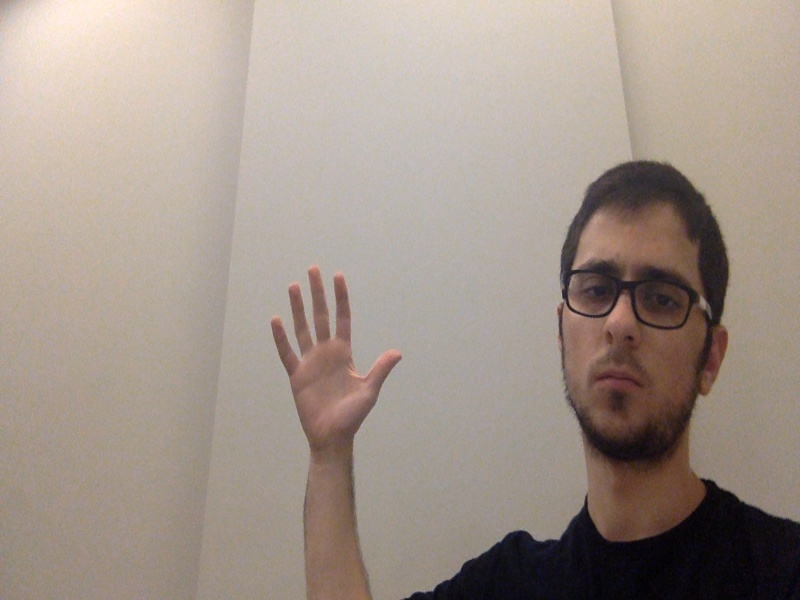5-hand: (267, 265, 410, 451)
